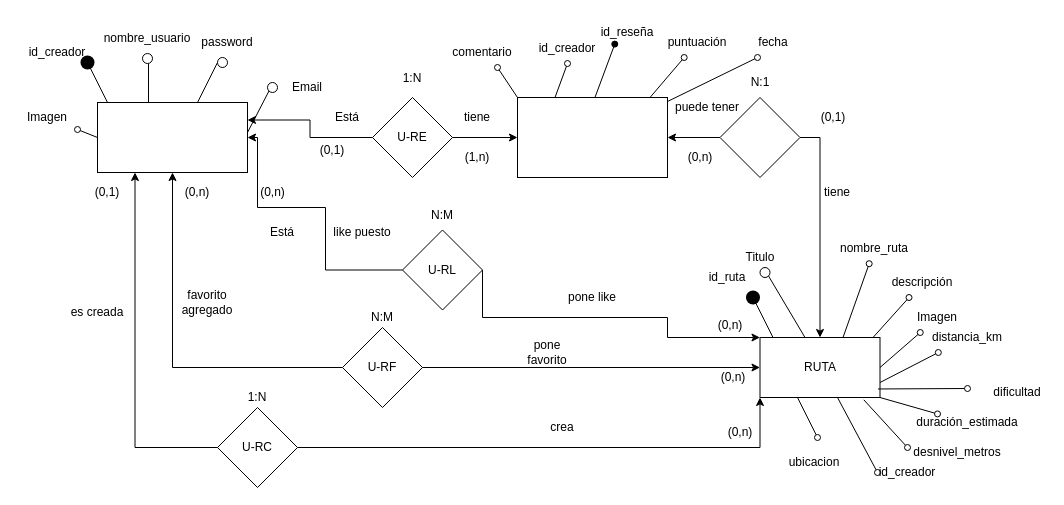
This 1064x505 diagram has some shape labels left out. Here are the shapes that lost their labels. From the top down, the box of each, then its label:
(96, 102, 248, 172): USUARIO
(516, 96, 668, 178): RESENA
(719, 96, 800, 178): RE - R
